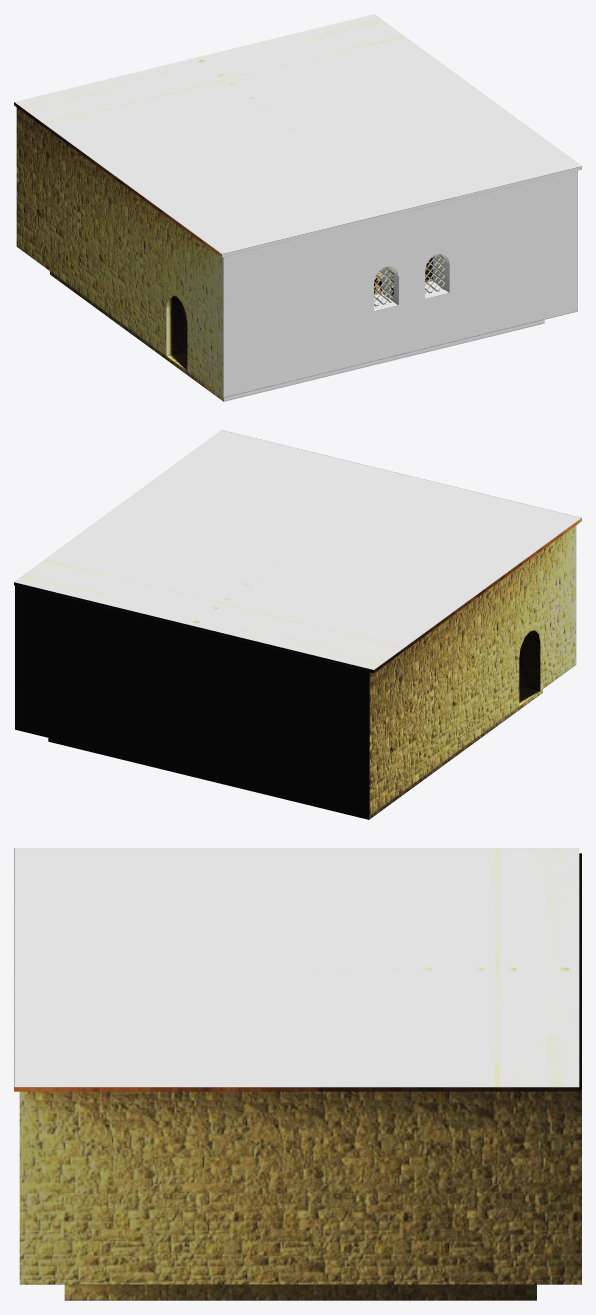
3 renders of one model, top to bottom at view 1: azimuth 30°, elevation 25°; view 2: azimuth 150°, elevation 25°; view 3: azimuth 270°, elevation 25°, orthographic. The views are drawn at different scales.
Parts seen in each view (by area): view 1: EXPORT_SALLE; view 2: EXPORT_SALLE; view 3: EXPORT_SALLE.
Boxes of the visible parts, x1,y1,x2,y2 form: EXPORT_SALLE: (14,14,581,401); EXPORT_SALLE: (14,430,581,819); EXPORT_SALLE: (14,848,581,1300).
Size of the model in its own units: 11 by 4.85 by 11.06.
6 materials, 6 textured.
